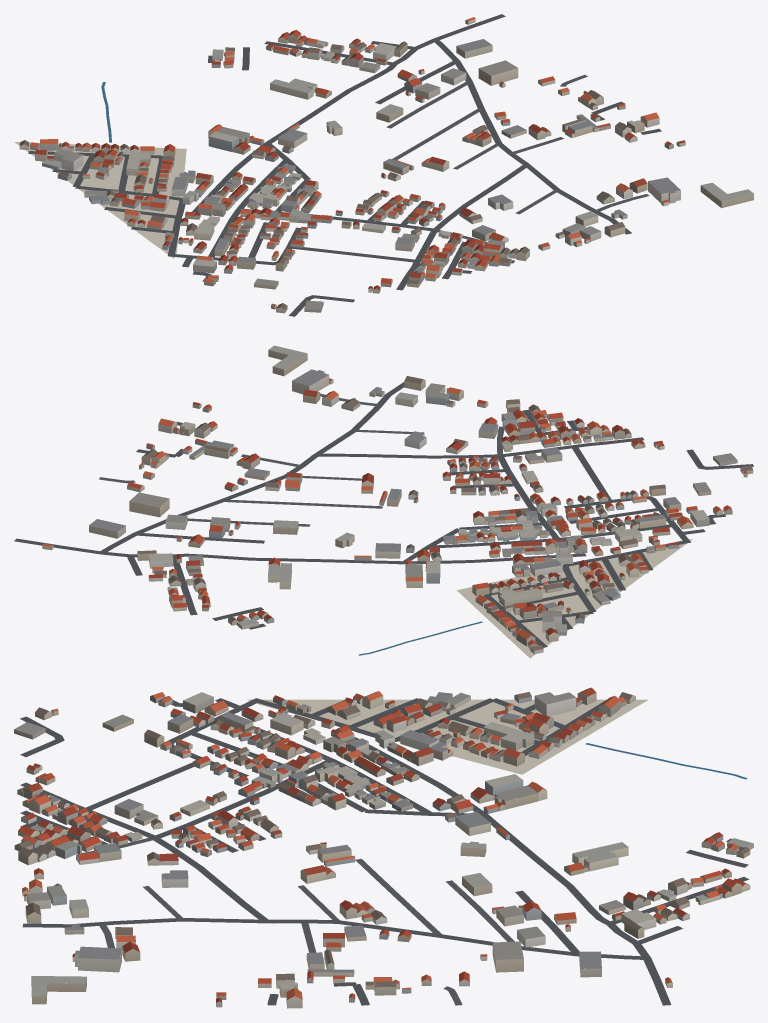
3 views of the same model, one above another, from view 1: azimuth 30°, elevation 25°; view 2: azimuth 150°, elevation 25°; view 3: azimuth 270°, elevation 25° (orthographic). The views are drawn at different scales.
Parts seen in each view (by area): view 1: buildings_walls, buildings_roofs, roads, landuse; view 2: buildings_roofs, buildings_walls, roads, landuse; view 3: buildings_walls, buildings_roofs, roads, landuse.
Boxes of the visible parts, box(x1,y1,x2,y2) form: buildings_walls: box(19, 19, 753, 313); buildings_roofs: box(19, 17, 753, 309); roads: box(28, 14, 661, 316); landuse: box(14, 142, 186, 258); buildings_roofs: box(42, 345, 752, 650); buildings_walls: box(42, 350, 753, 654); roads: box(14, 382, 753, 647); landuse: box(457, 539, 692, 658); buildings_walls: box(14, 692, 753, 1008); buildings_roofs: box(14, 687, 753, 1002); roads: box(20, 698, 749, 1005); landuse: box(247, 699, 648, 774).
Bounding box in the file's own units: 510 × 9.62 × 511.
